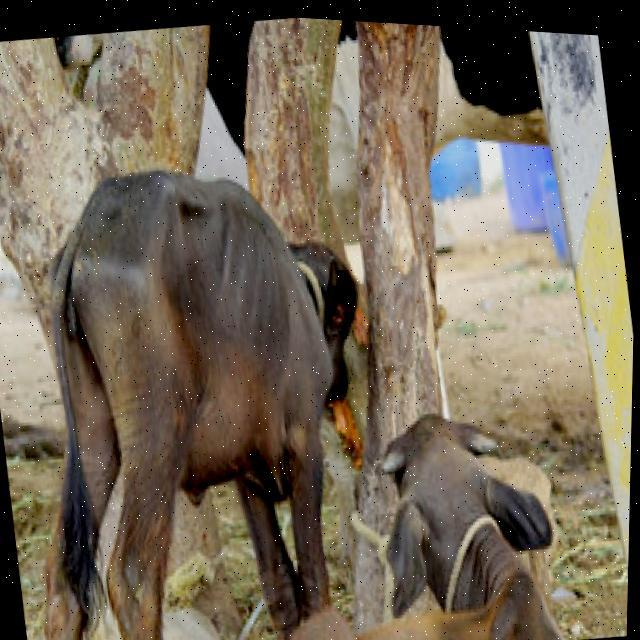Buffalo: (0, 128, 417, 640)
